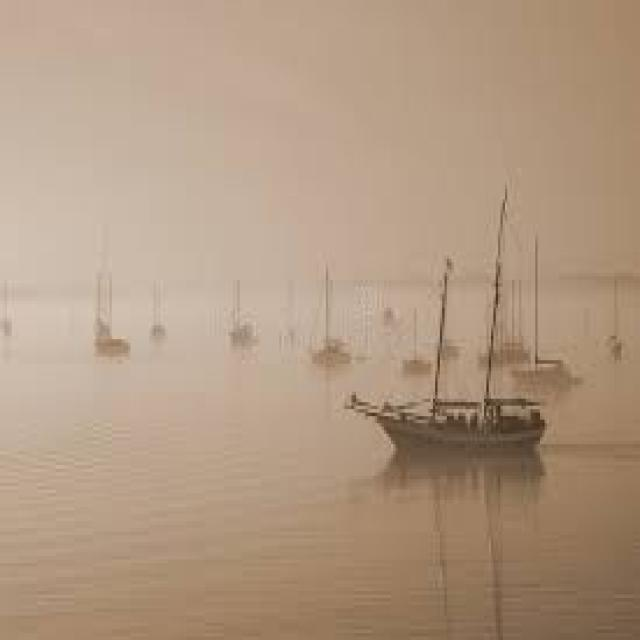fishing boat: (348, 259, 538, 467), (300, 274, 349, 368), (82, 264, 132, 352), (218, 276, 258, 351)
